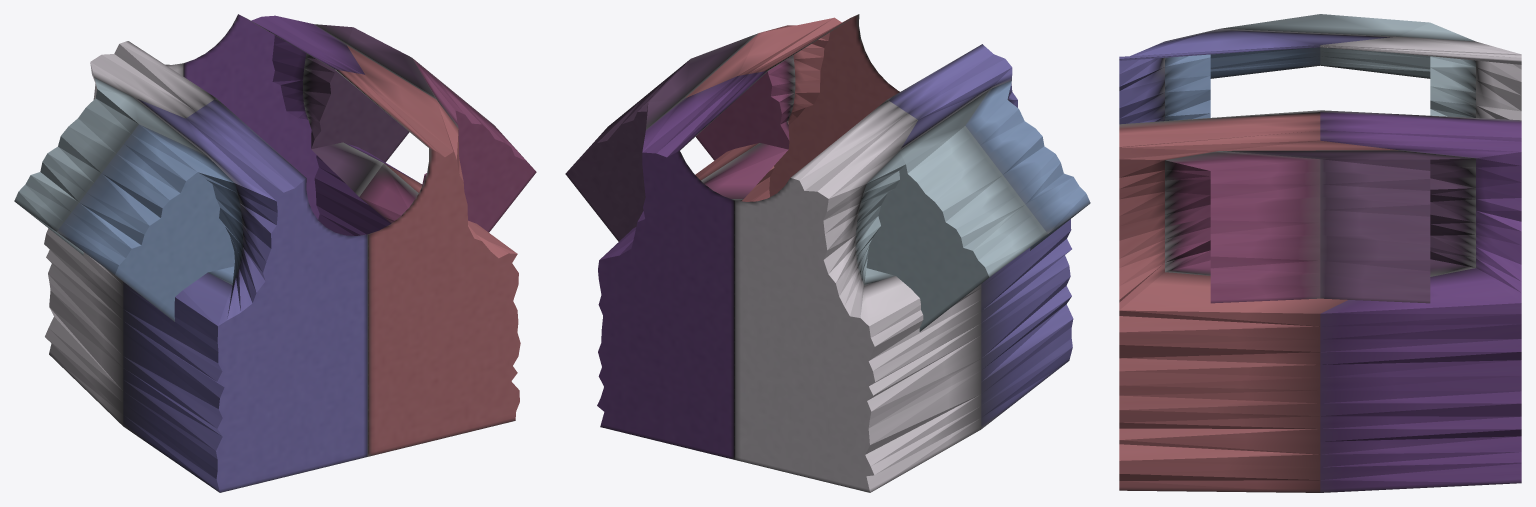
File: custom_boxmesh.obj
3 renders of one model, left to right at view 1: azimuth 30°, elevation 25°; view 2: azimuth 150°, elevation 25°; view 3: azimuth 270°, elevation 25°, orthographic. The views are drawn at different scales.
Size of the model in its own units: 75.31 by 50.23 by 55.
1 material, 1 textured.
